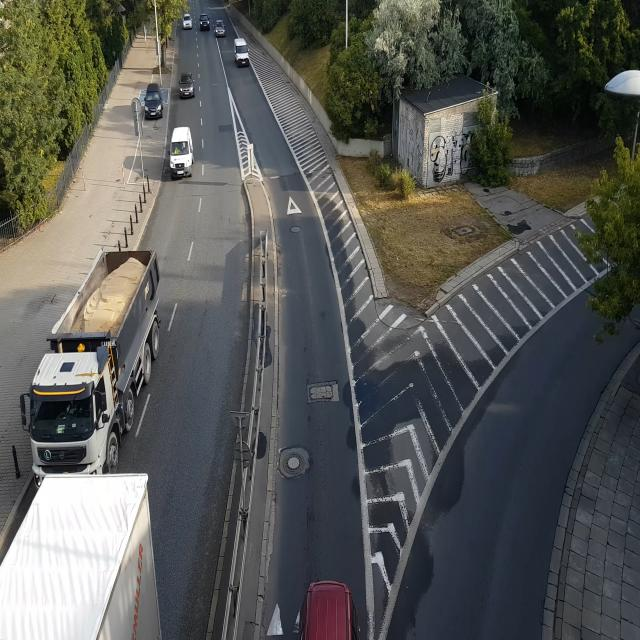car: (300, 580, 368, 640), (166, 126, 194, 184), (143, 90, 165, 120), (233, 39, 250, 67), (180, 76, 197, 99), (199, 16, 211, 31), (216, 22, 227, 36), (183, 16, 193, 29)
truck: (23, 248, 162, 475), (0, 483, 164, 640)
